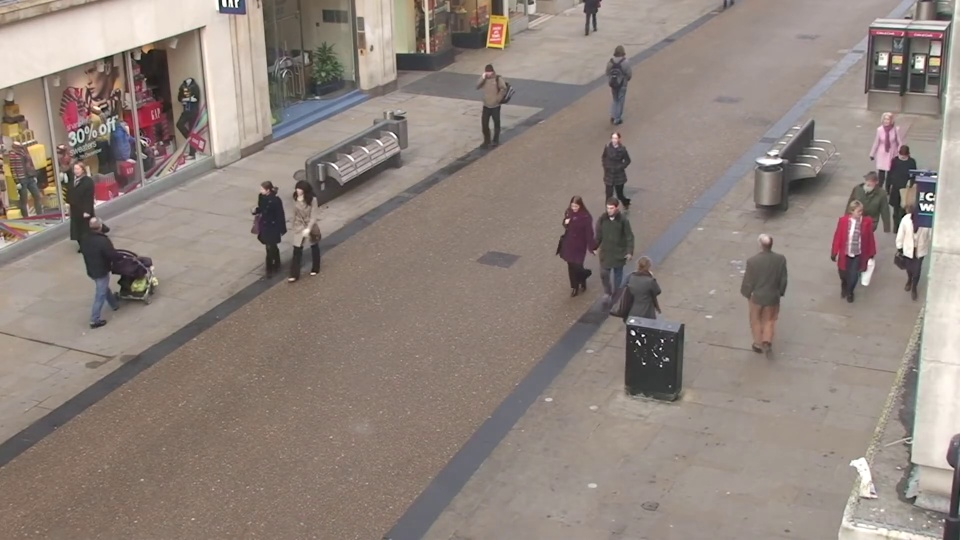pedestrian: (83, 205, 135, 321), (825, 200, 872, 320), (624, 247, 667, 378), (743, 221, 787, 345), (52, 162, 102, 267), (839, 170, 884, 282), (874, 147, 920, 253), (243, 180, 285, 291), (277, 180, 318, 292), (552, 199, 590, 318), (588, 199, 625, 318), (860, 111, 902, 208), (595, 127, 627, 227), (469, 65, 498, 147), (609, 42, 634, 118)
